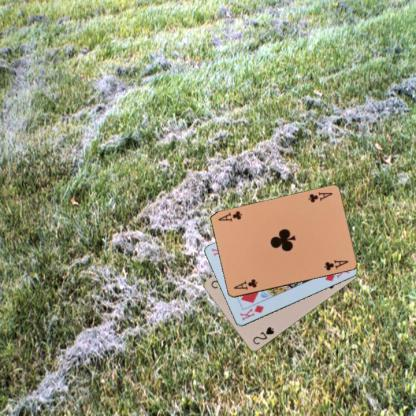2s: (250, 324, 276, 346)
Ac: (231, 276, 259, 291), (306, 189, 333, 204)
Kd: (237, 303, 265, 322)
